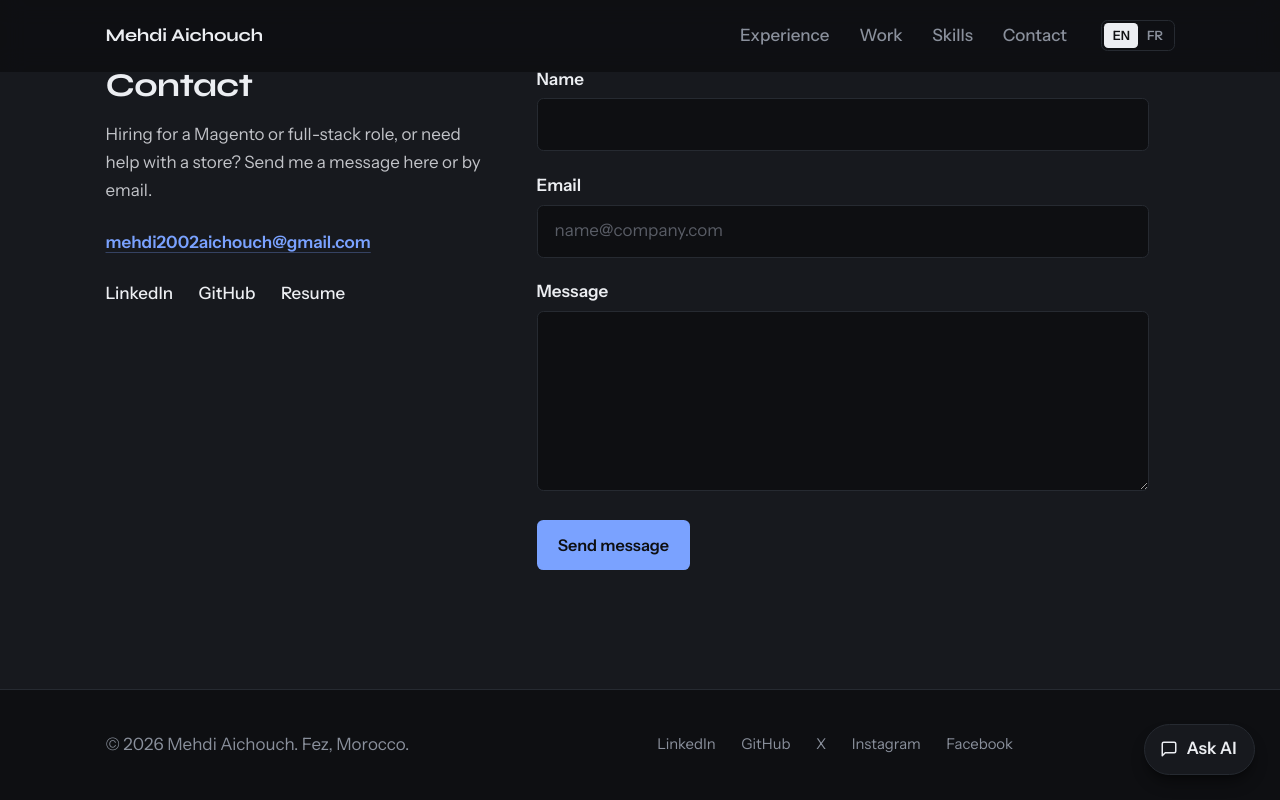
Test case: Contact form validation › shows an inline error for every empty field on submit
(page scrolled)
Click the button "Send message".
click(613, 545)  # box x1=536 y1=520 x2=690 y2=570
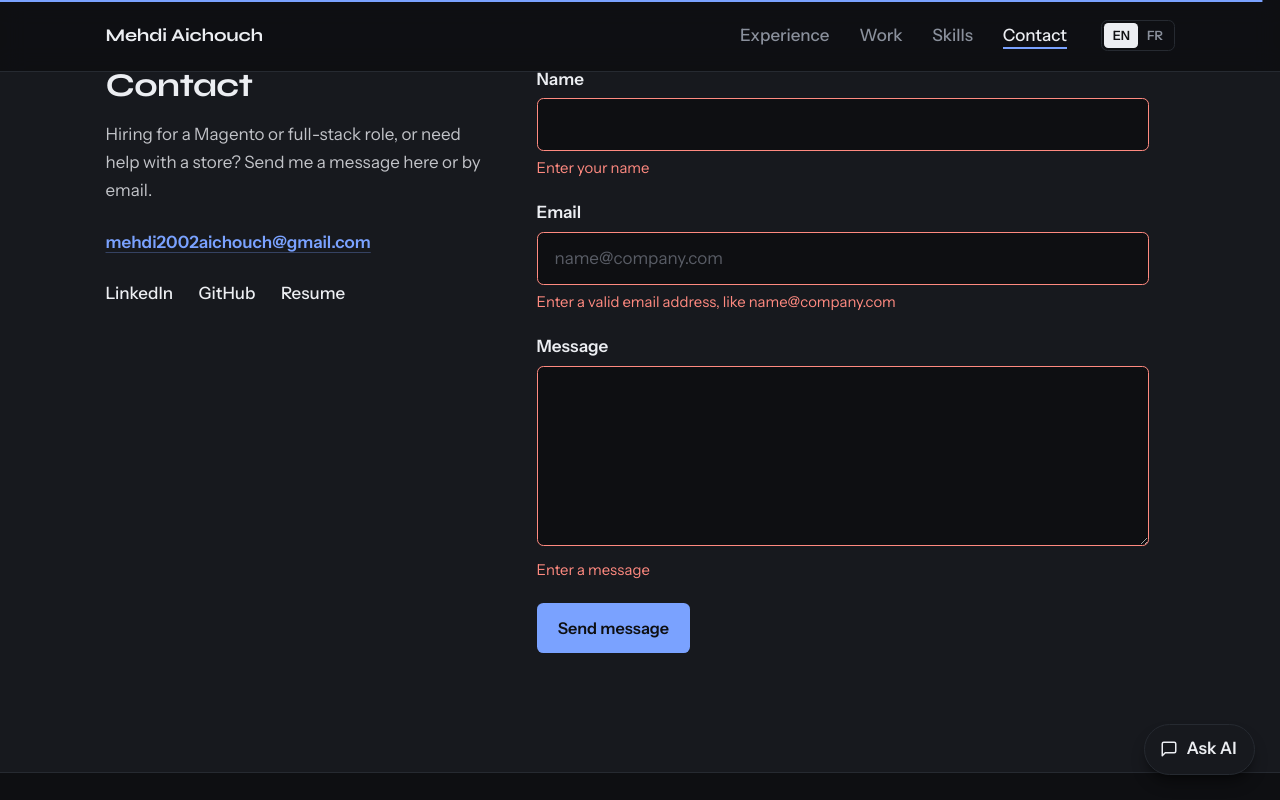
Result: the text "Enter your name" is shown at x1=536 y1=159 x2=650 y2=177
Result: the text "Enter a valid email address, like name@company.com" is shown at x1=536 y1=293 x2=896 y2=311
Result: the text "Enter a message" is shown at x1=536 y1=561 x2=650 y2=579
